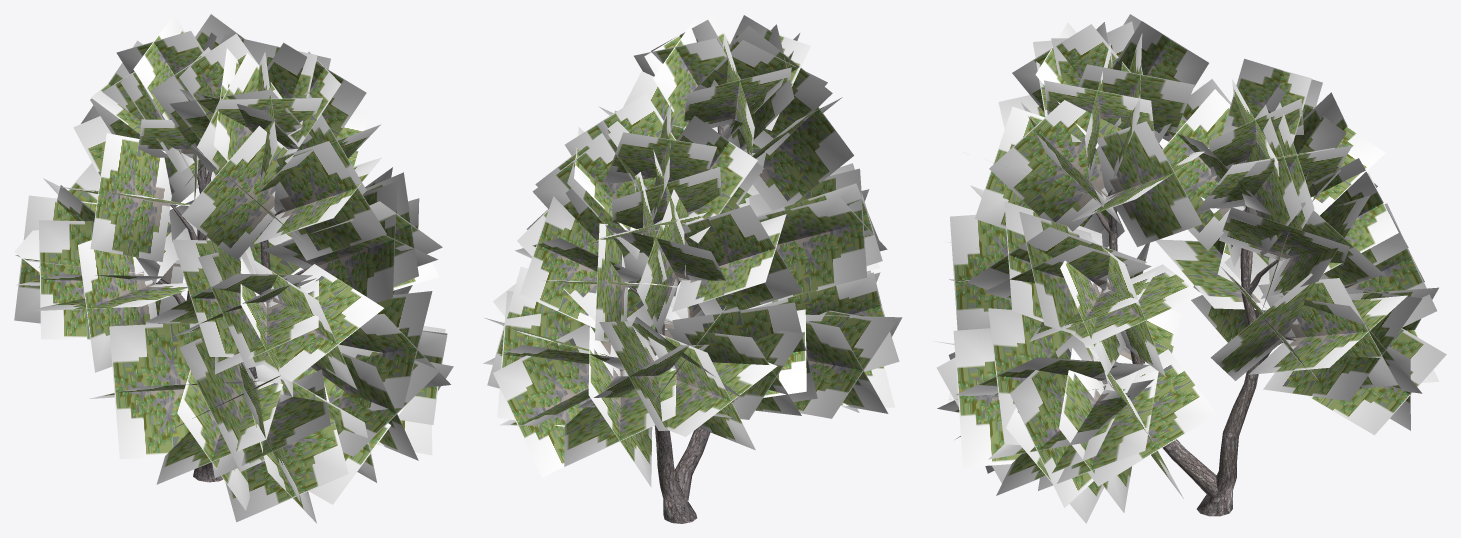
Rendered from realistic_tree_vol.1.glb.
The picture shows the model from 3 angles, left to right: view 1: azimuth 30°, elevation 25°; view 2: azimuth 150°, elevation 25°; view 3: azimuth 270°, elevation 25°; orthographic projection. The views are drawn at different scales.
Parts seen in each view (by area): view 1: Mobile_Tree_1; view 2: Mobile_Tree_1; view 3: Mobile_Tree_1.
Boxes of the visible parts, x1,y1,x2,y2 form: Mobile_Tree_1: [14, 14, 453, 523]; Mobile_Tree_1: [483, 14, 902, 523]; Mobile_Tree_1: [935, 14, 1446, 523].
Bounding box in the file's own units: 10.58 × 14.52 × 14.04.
Materials: 2 (2 with a texture image).
